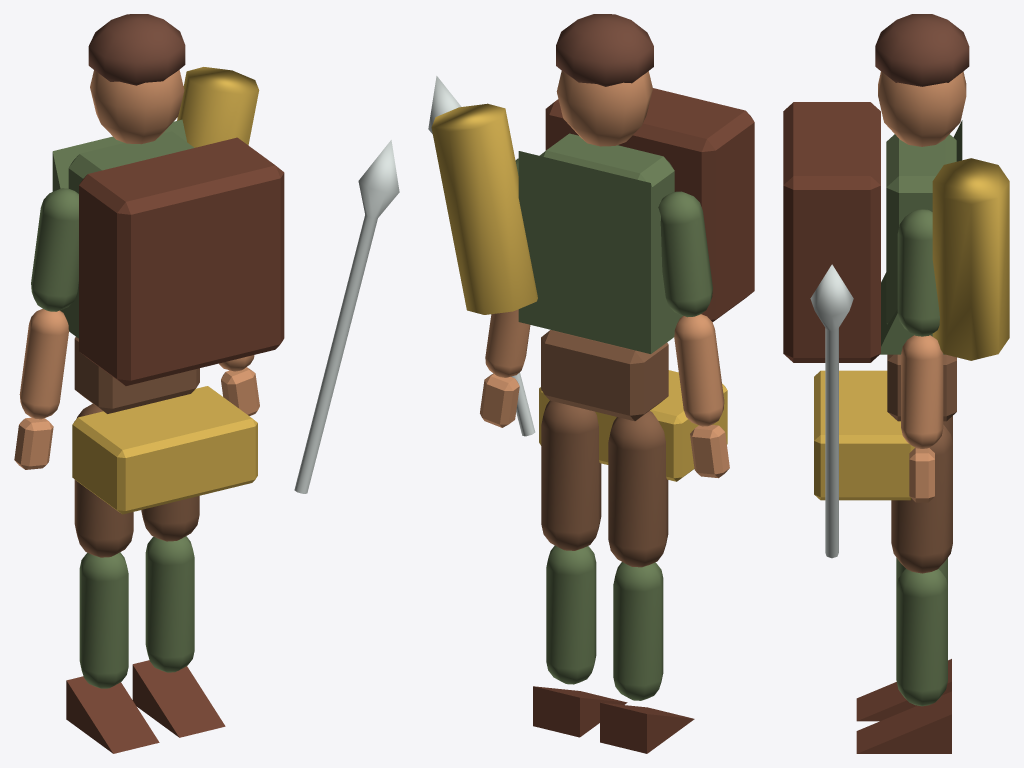
The model's file is adventurer.rustic.glb.
3 renders of one model, left to right at view 1: azimuth 30°, elevation 25°; view 2: azimuth 150°, elevation 25°; view 3: azimuth 270°, elevation 25°, orthographic.
Visible parts, largest first — view 1: accessory.body, accessory.waist, shin.left, shin.right, accessory.main-hand, hair, accessory.back, upper-arm.left, head, foot.left, foot.right, forearm.left (+7 smaller); view 2: tunic, accessory.body, accessory.back, pelvis, thigh.left, thigh.right, shin.right, shin.left, hair, upper-arm.left, head, forearm.left (+8 smaller); view 3: accessory.body, accessory.back, accessory.waist, shin.right, hair, thigh.right, torso, accessory.main-hand, head, upper-arm.right, forearm.right, foot.right (+4 smaller).
Boxes of the visible parts, <box> form: accessory.body: <box>79,137,284,385</box>; accessory.waist: <box>72,386,257,514</box>; shin.left: <box>79,552,128,688</box>; shin.right: <box>145,536,194,672</box>; accessory.main-hand: <box>294,140,399,493</box>; hair: <box>88,14,185,85</box>; accessory.back: <box>177,67,259,147</box>; upper-arm.left: <box>31,188,78,311</box>; head: <box>90,70,184,144</box>; foot.left: <box>66,676,159,753</box>; foot.right: <box>132,660,225,737</box>; forearm.left: <box>19,309,68,419</box>; tunic: <box>518,151,683,353</box>; accessory.body: <box>545,88,754,321</box>; accessory.back: <box>431,103,537,314</box>; pelvis: <box>541,330,668,421</box>; thigh.left: <box>608,411,668,567</box>; thigh.right: <box>541,400,601,550</box>; shin.right: <box>546,545,596,684</box>; shin.left: <box>613,562,663,700</box>; hair: <box>556,14,653,86</box>; upper-arm.left: <box>658,191,712,317</box>; head: <box>556,71,652,146</box>; forearm.left: <box>674,314,724,426</box>; accessory.body: <box>783,102,880,362</box>; accessory.back: <box>932,158,1009,360</box>; accessory.waist: <box>814,370,914,500</box>; shin.right: <box>896,569,947,706</box>; hair: <box>875,14,969,86</box>; thigh.right: <box>891,424,952,573</box>; torso: <box>886,134,956,324</box>; accessory.main-hand: <box>810,264,853,558</box>; head: <box>878,71,966,146</box>; upper-arm.right: <box>897,209,939,336</box>; forearm.right: <box>901,335,943,448</box>; foot.right: <box>856,691,951,753</box>.
Bounding box in the file's own units: 1.53 × 3.03 × 0.88.
